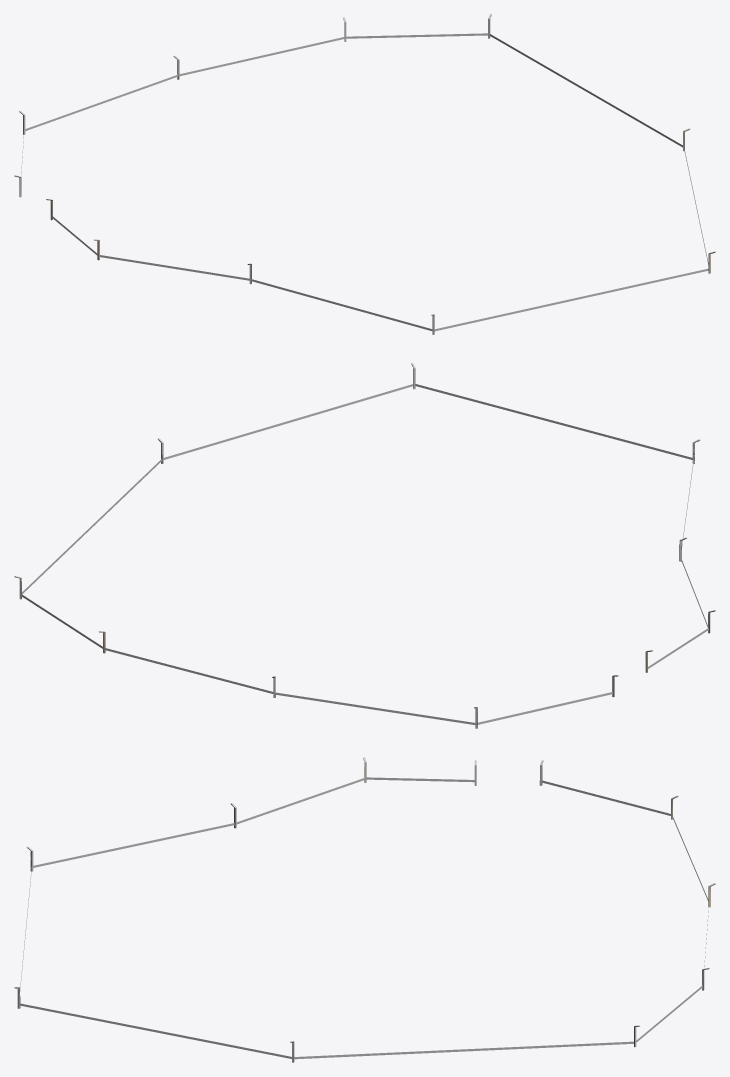
The model's file is Walls.fbx.
3 views of the same model, one above another, from view 1: azimuth 30°, elevation 25°; view 2: azimuth 150°, elevation 25°; view 3: azimuth 270°, elevation 25° (orthographic). The views are drawn at different scales.
Visible parts, largest first — view 1: Outside Pillars; view 2: Outside Pillars; view 3: Outside Pillars.
Boxes of the visible parts, x1,y1,x2,y2 form: Outside Pillars: [14, 14, 715, 334]; Outside Pillars: [14, 363, 715, 728]; Outside Pillars: [14, 757, 715, 1062].
Bounding box in the file's own units: 28004 × 1038 × 29105.
